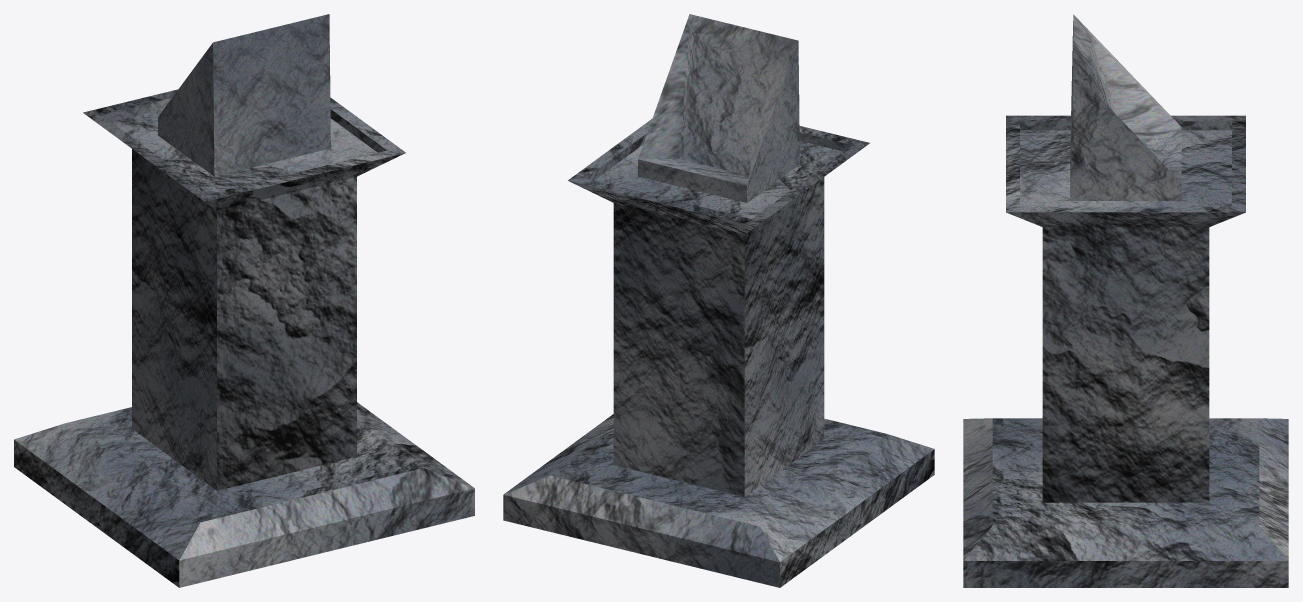
The model's file is stone_holder.fbx.
3 renders of one model, left to right at view 1: azimuth 30°, elevation 25°; view 2: azimuth 150°, elevation 25°; view 3: azimuth 270°, elevation 25°, orthographic. The views are drawn at different scales.
Parts seen in each view (by area): view 1: pCube11; view 2: pCube11; view 3: pCube11.
Part boxes in pixels (box(x1,y1,x2,y2)): pCube11: box(14, 14, 474, 587); pCube11: box(503, 14, 934, 587); pCube11: box(963, 14, 1288, 587).
Bounding box in the file's own units: 1.78 × 2.77 × 1.72.
